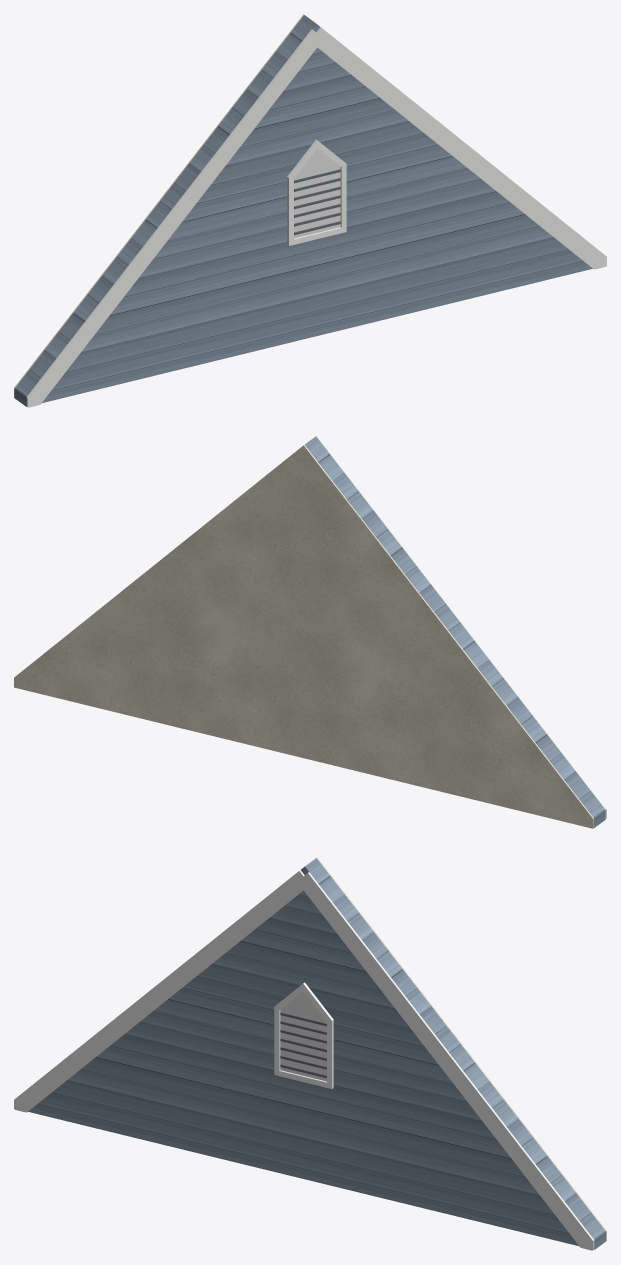
Rendered from gable_front.glb.
3 renders of one model, top to bottom at view 1: azimuth 30°, elevation 25°; view 2: azimuth 150°, elevation 25°; view 3: azimuth 330°, elevation 25°, orthographic.
Visible parts, largest first — view 1: gable_front_siding, gable_front_trim, gable_front_vent, gable_front_shutter_dark, gable_front_plaster; view 2: gable_front_plaster, gable_front_siding, gable_front_trim; view 3: gable_front_siding, gable_front_trim, gable_front_vent, gable_front_shutter_dark, gable_front_plaster.
Boxes of the visible parts, x1,y1,x2,y2 form: gable_front_siding: (15, 15, 592, 406); gable_front_trim: (26, 27, 606, 407); gable_front_vent: (294, 148, 340, 238); gable_front_shutter_dark: (294, 169, 340, 235); gable_front_plaster: (14, 14, 303, 398); gable_front_plaster: (14, 445, 593, 828); gable_front_siding: (304, 436, 605, 827); gable_front_trim: (320, 441, 606, 818); gable_front_siding: (28, 858, 605, 1249); gable_front_trim: (14, 870, 594, 1250); gable_front_vent: (280, 991, 326, 1081); gable_front_shutter_dark: (280, 1012, 326, 1078); gable_front_plaster: (317, 857, 606, 1241).
Bounding box in the file's own units: 8 × 4.13 × 0.34.
5 materials, 2 textured.
